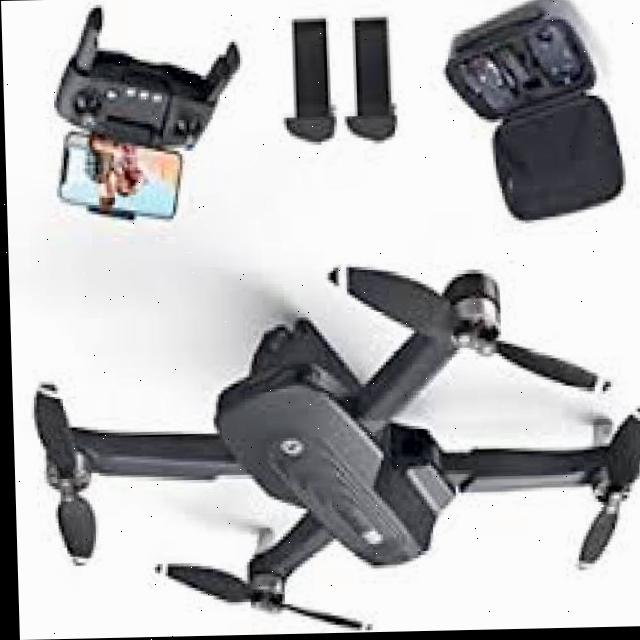drone: (18, 243, 640, 640)
